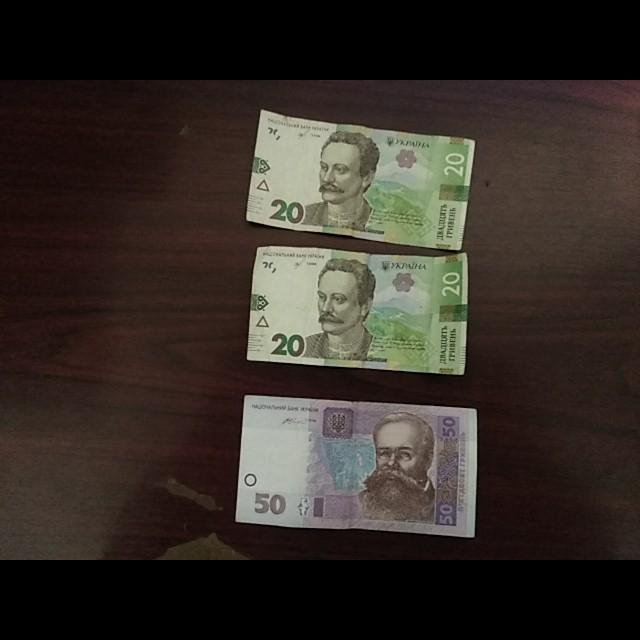20uah: (245, 109, 475, 252), (247, 246, 467, 374)
50uah: (234, 394, 479, 539)
